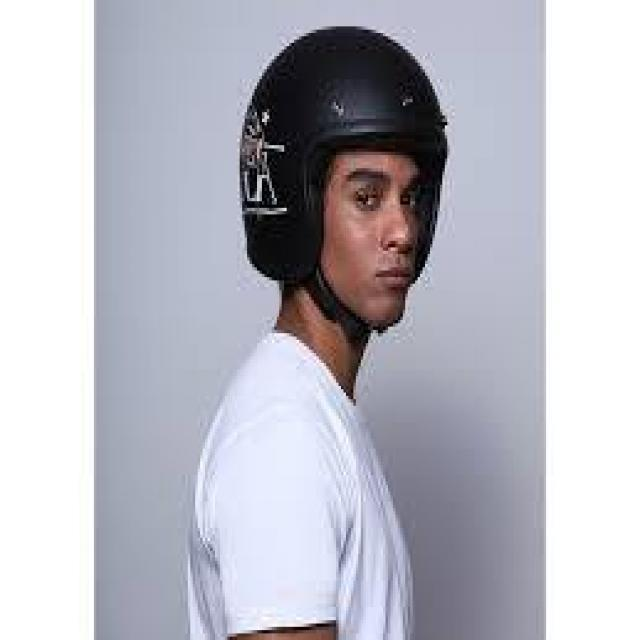Helmet: (232, 22, 454, 337)
